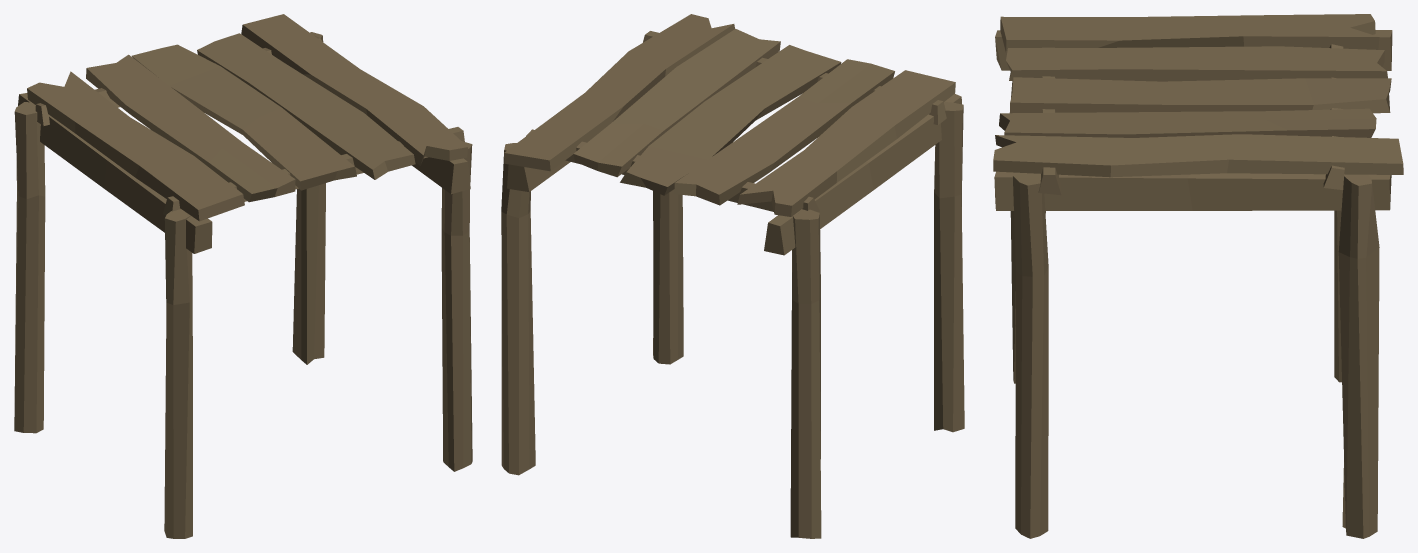
The model's file is island_dock_2.fbx.
The picture shows the model from 3 angles, left to right: view 1: azimuth 30°, elevation 25°; view 2: azimuth 150°, elevation 25°; view 3: azimuth 270°, elevation 25°; orthographic projection. The views are drawn at different scales.
Visible parts, largest first — view 1: Cylinder.019; view 2: Cylinder.019; view 3: Cylinder.019.
Boxes of the visible parts, box(x1,y1,x2,y2) form: Cylinder.019: box(14, 14, 472, 538); Cylinder.019: box(501, 14, 964, 538); Cylinder.019: box(993, 14, 1403, 538).
Size of the model in its own units: 1.89 by 1.92 by 1.92.
